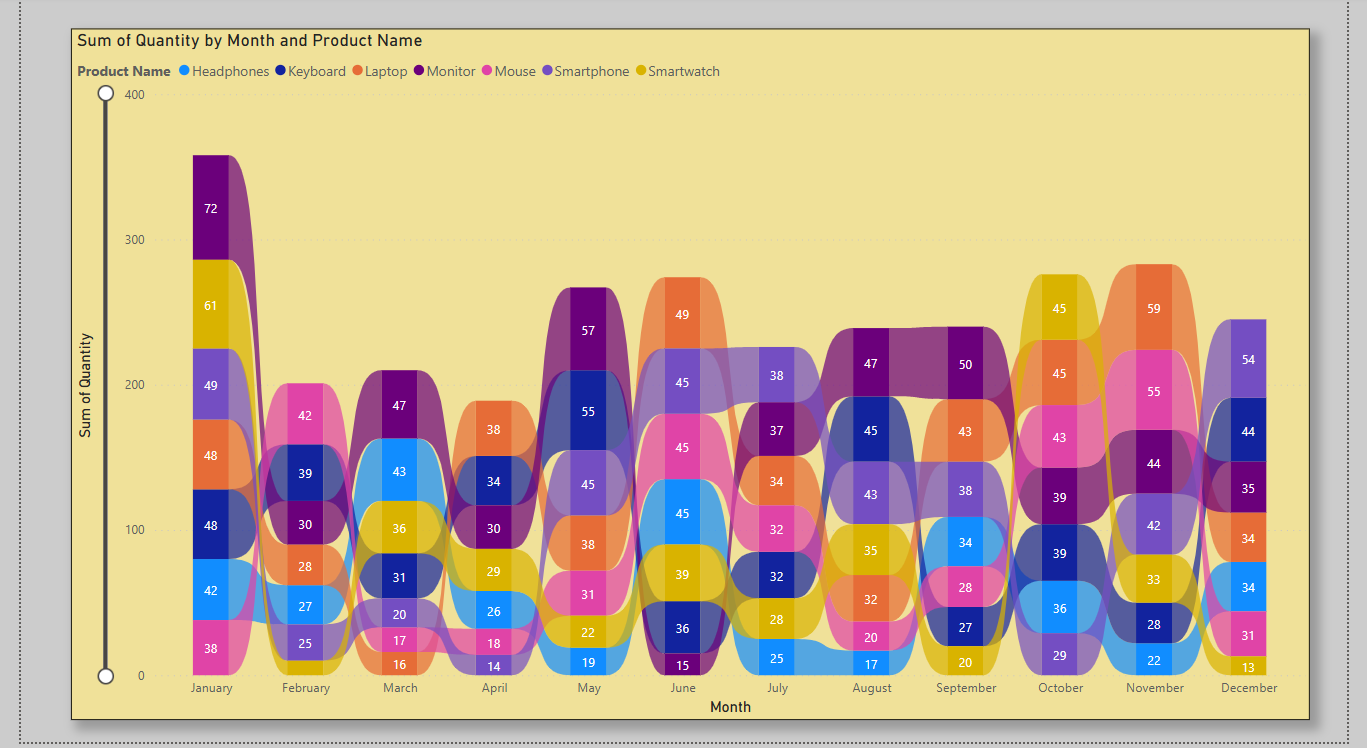

The dashboard page shown, as its layout file describes it:
{"tool":"powerbi","page":{"name":"Page 3","canvas":[1280,720],"ordinal":2},"visuals":[{"type":"ribbonChart","fields":{"Category":["realistic_e_commerce_sales_data.Order Date.Variation.Date Hierarchy.Month"],"Y":["Sum(realistic_e_commerce_sales_data.Quantity)"],"Series":["realistic_e_commerce_sales_data.Product Name"]},"box":[48.2,31.4,1195.2,666.9],"z":0}]}

Visuals, with their boxes in screenshot pixels (x1, y1, x2, y2), scaled from the page's 1280x720 canvas onto the 1367x748 screenshot:
ribbonChart - realistic_e_commerce_sales_data.Order Date.Variation.Date Hierarchy.Month x Sum(realistic_e_commerce_sales_data.Quantity): 51:33:1328:725
